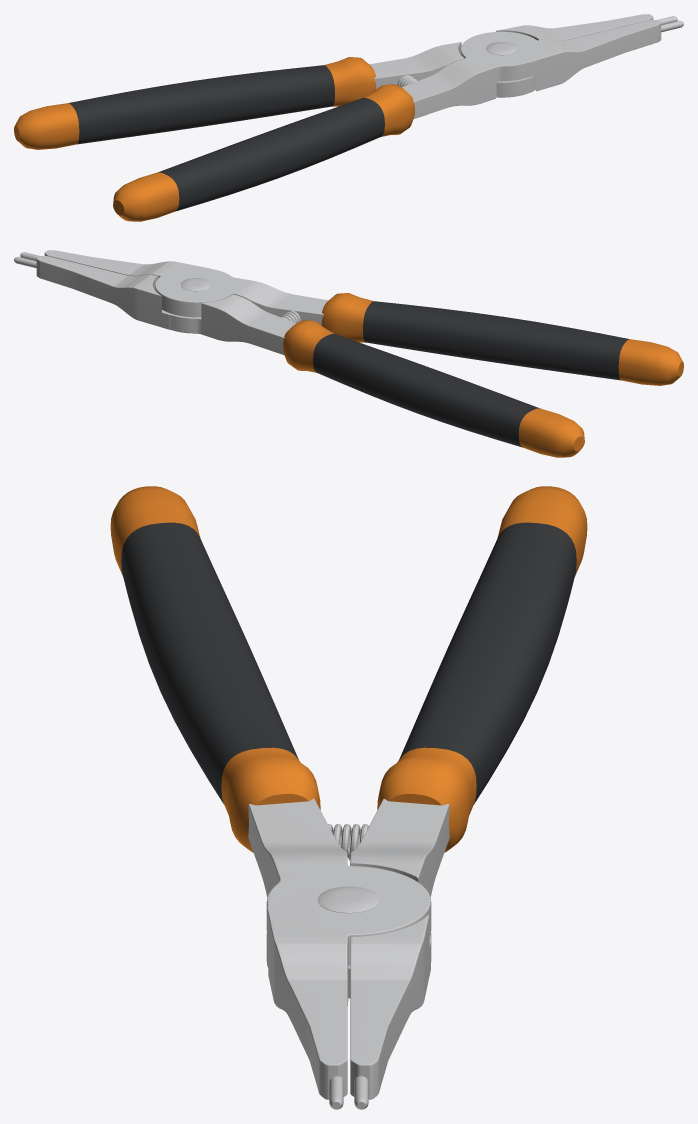
Rendered from alicate-aneis.glb.
3 renders of one model, top to bottom at view 1: azimuth 30°, elevation 25°; view 2: azimuth 150°, elevation 25°; view 3: azimuth 270°, elevation 25°, orthographic. The views are drawn at different scales.
Visible parts, largest first — view 1: cabos, articulacao, pontas; view 2: cabos, articulacao, pontas; view 3: cabos, pontas, articulacao.
Boxes of the visible parts, x1,y1,x2,y2 form: cabos: [14, 44, 482, 221]; articulacao: [397, 26, 558, 102]; pontas: [522, 14, 683, 84]; cabos: [215, 280, 683, 457]; articulacao: [139, 262, 300, 338]; pontas: [14, 250, 175, 320]; cabos: [110, 486, 587, 897]; pontas: [273, 937, 424, 1109]; articulacao: [266, 824, 431, 998].
Bounding box in the file's own units: 0.1809 × 0.0128 × 0.0609.
